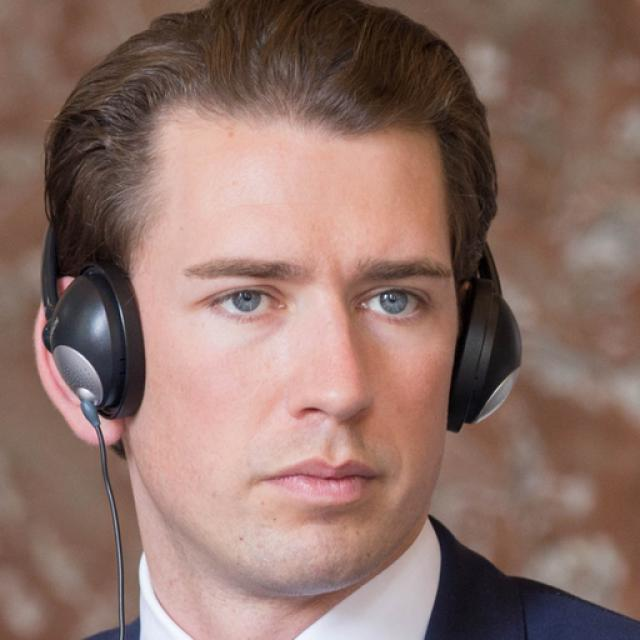neutral: (129, 109, 460, 596)
